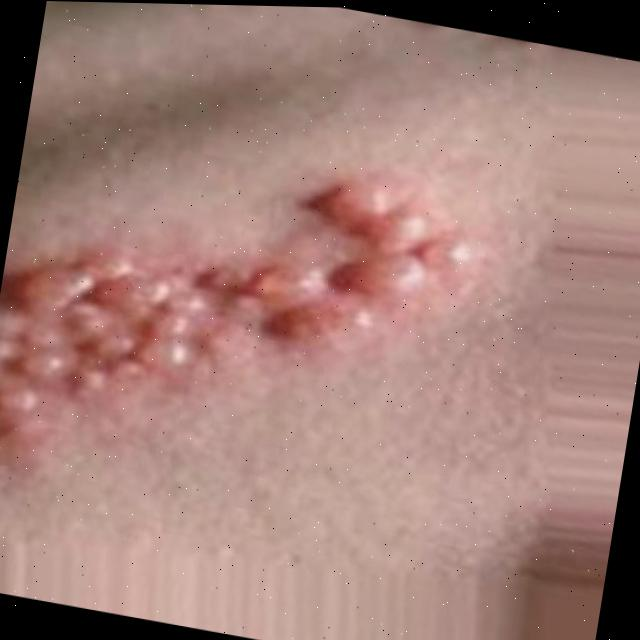Shingles: (0, 98, 481, 512)
